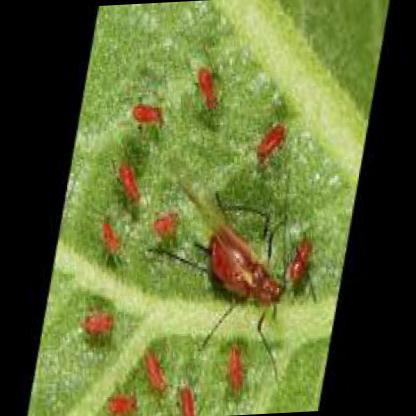uroleucon compositae: (190, 197, 286, 310)
